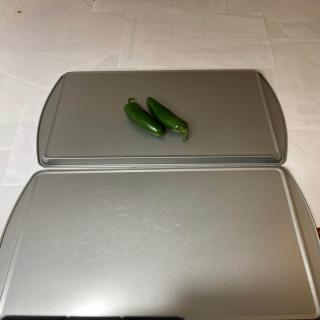Chilli: (146, 96, 189, 141), (123, 97, 164, 137)
